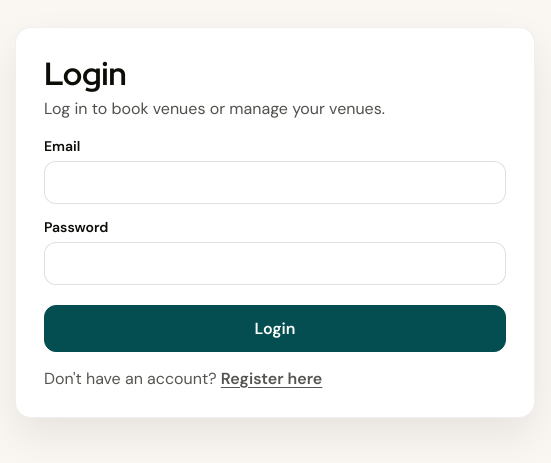
it: Login page › shows password validation error for short password
Step 1. Type "test@example.com" into the field labelled "Email" → (275, 182), box left=44, top=161, right=506, bottom=204
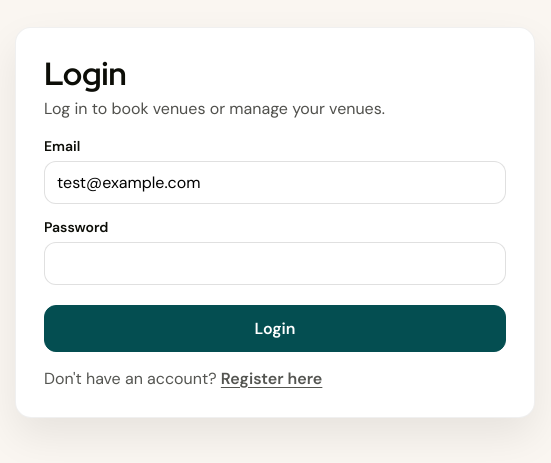
Step 2. Type "short" into the password field labelled "Password" → (275, 263), box left=44, top=242, right=506, bottom=285
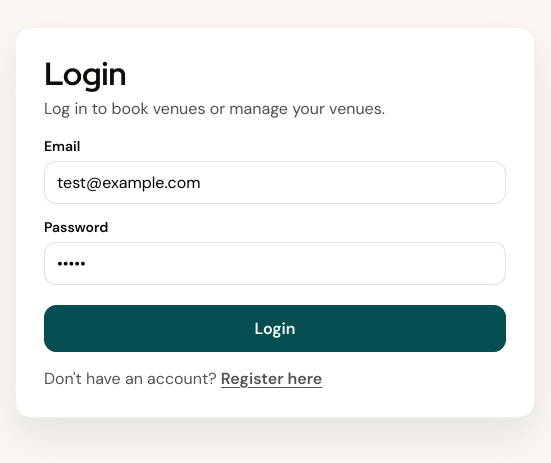
Step 3. Click the button "Login" → click(275, 328), box left=44, top=305, right=506, bottom=352
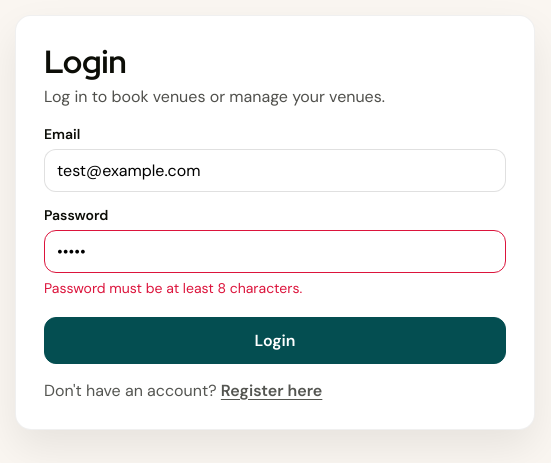
Expected: the text "Password must be at least 8 characters." is shown, left=44, top=279, right=302, bottom=297
